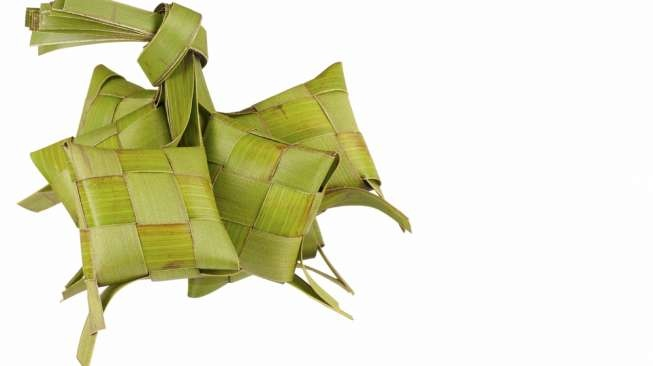ketupat: (61, 134, 239, 283)
